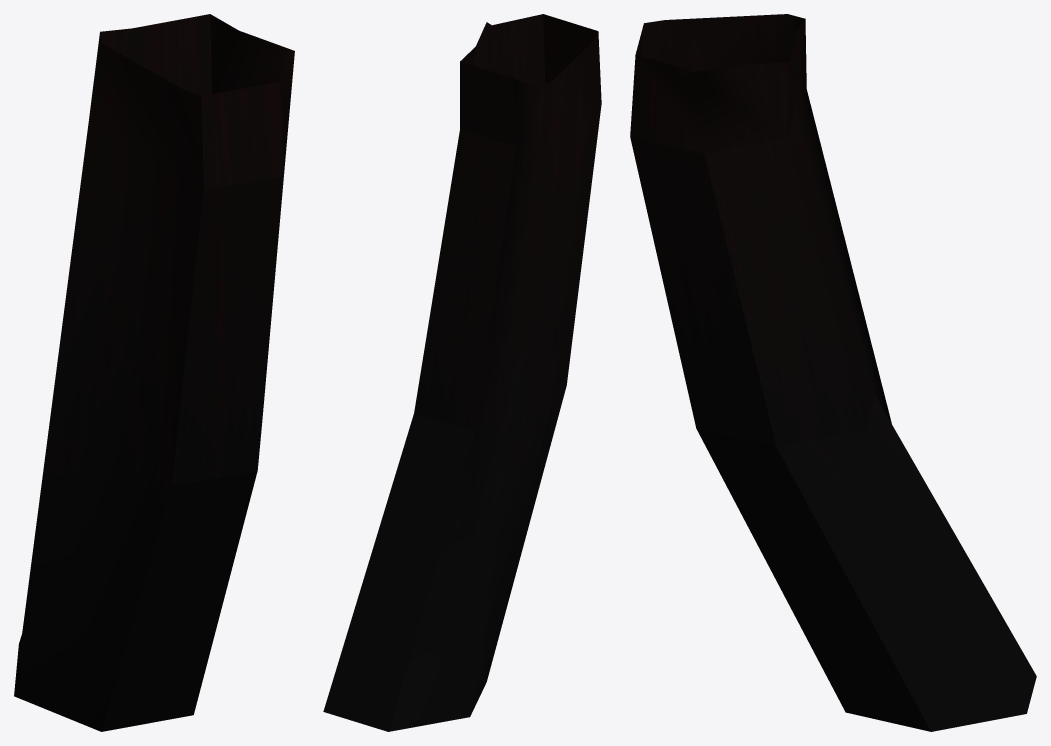
File: jungle_palm_a1_low.glb
3 renders of one model, left to right at view 1: azimuth 30°, elevation 25°; view 2: azimuth 150°, elevation 25°; view 3: azimuth 270°, elevation 25°, orthographic. The views are drawn at different scales.
Visible parts, largest first — view 1: jungle_palm_a1_low; view 2: jungle_palm_a1_low; view 3: jungle_palm_a1_low.
Boxes of the visible parts, x1,y1,x2,y2 form: jungle_palm_a1_low: (14,14,294,731); jungle_palm_a1_low: (323,14,601,731); jungle_palm_a1_low: (630,14,1036,731).
Bounding box in the file's own units: 0.3107 × 1.2 × 0.685.
Materials: 1 (1 with a texture image).
